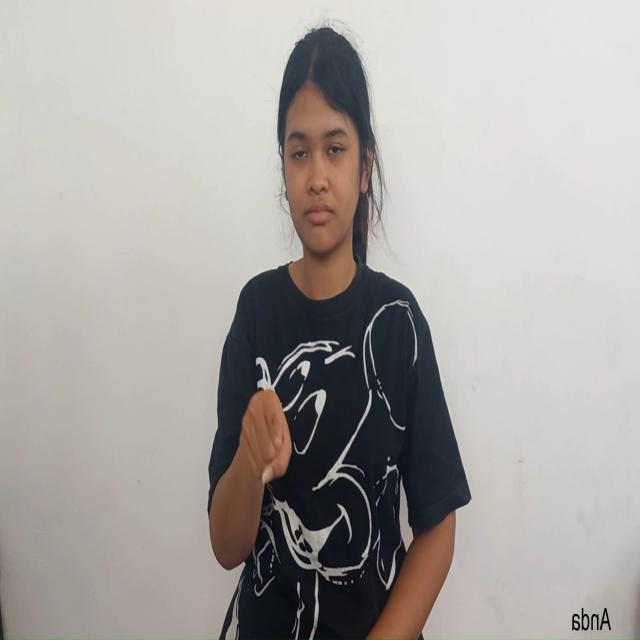Anda -BISINDO-: (197, 348, 313, 568)
